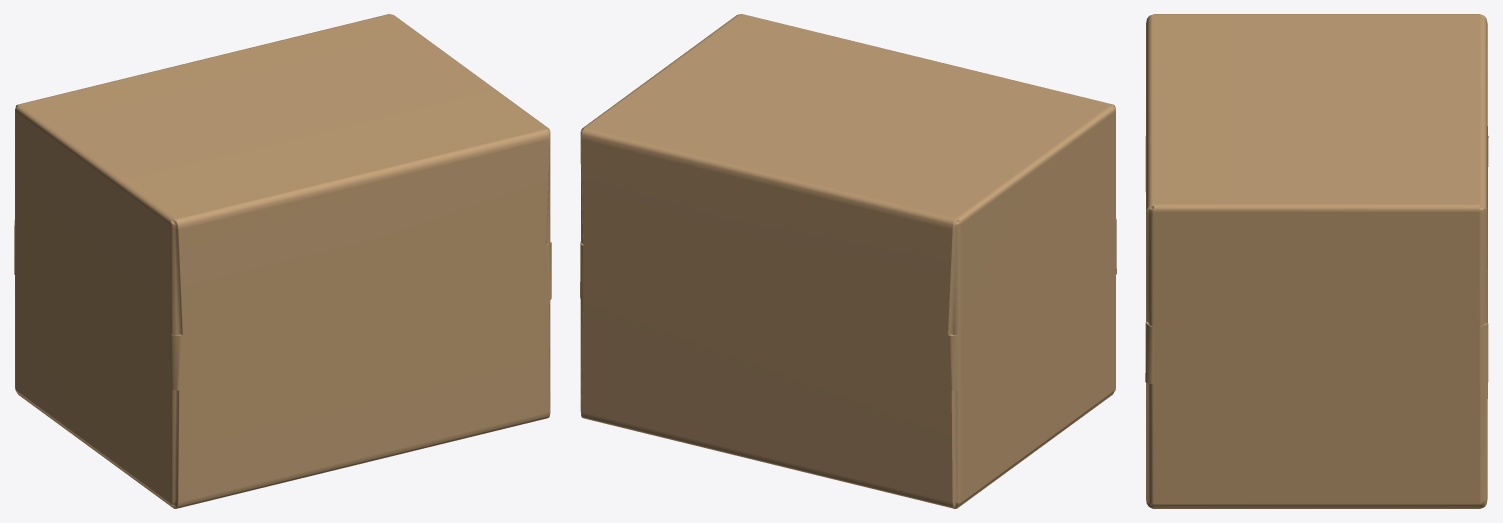
File: box_cardboard_a01.glb
3 renders of one model, left to right at view 1: azimuth 30°, elevation 25°; view 2: azimuth 150°, elevation 25°; view 3: azimuth 270°, elevation 25°, orthographic. The views are drawn at different scales.
Bounding box in the file's own units: 0.6994 × 0.5099 × 0.5211.
